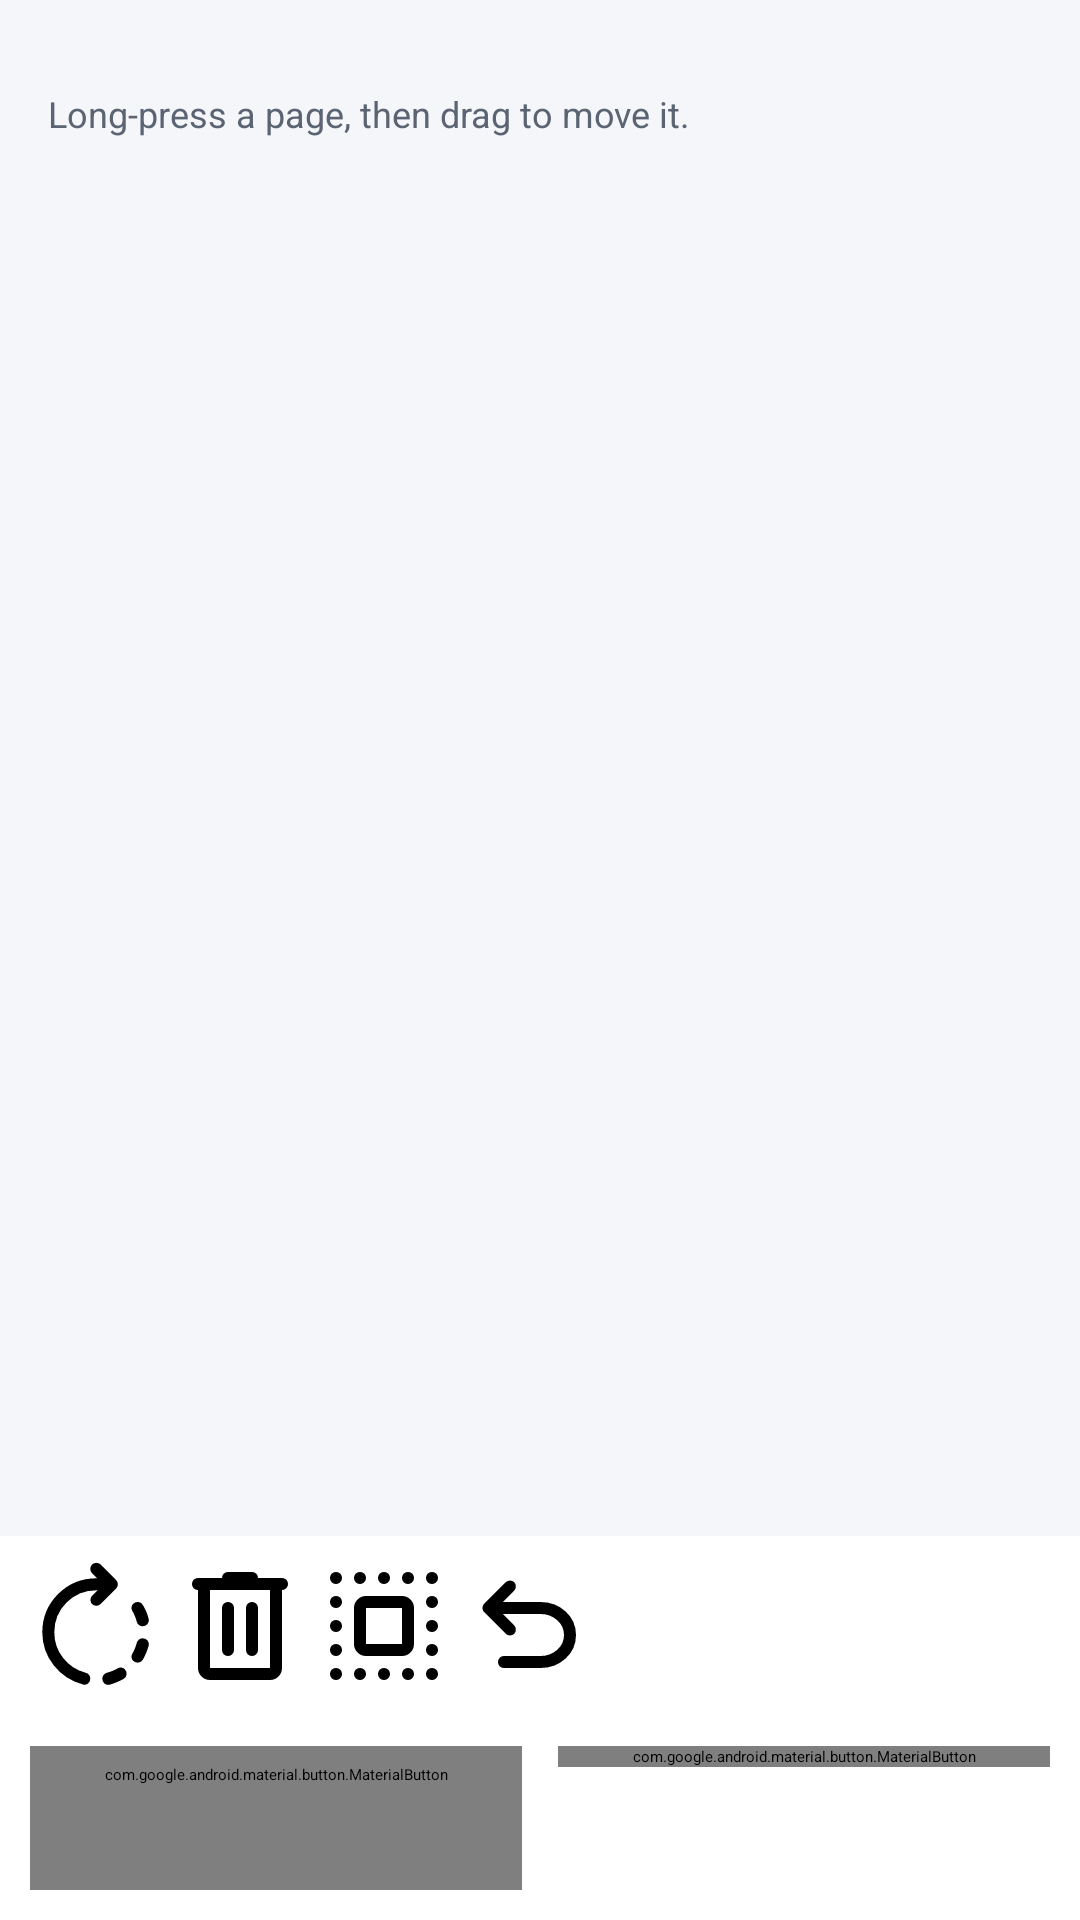

Locate icon controls on the screen. Image size 1080w x 1920h, boxes as BBox(x1, y1, x2, y2).
Delete: BBox(192, 1572, 288, 1680)
Rotate: BBox(42, 1563, 149, 1685)
Select all: BBox(330, 1572, 438, 1680)
Undo: BBox(482, 1580, 576, 1668)
